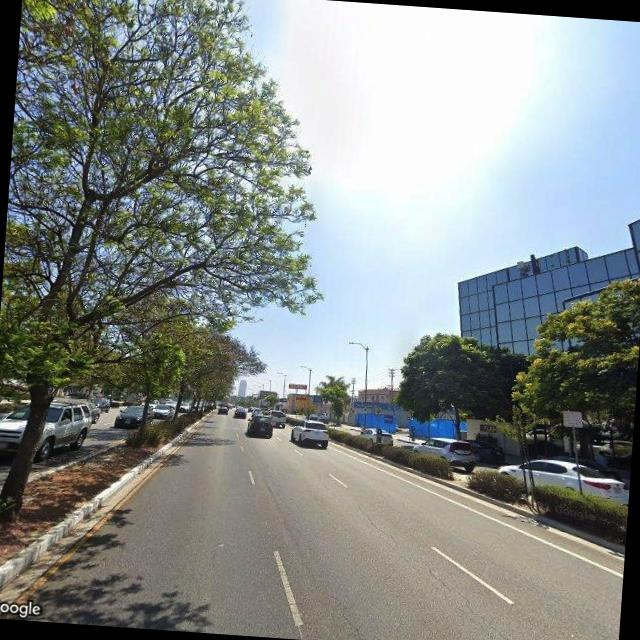crack: (413, 555, 529, 640), (354, 503, 400, 543)
